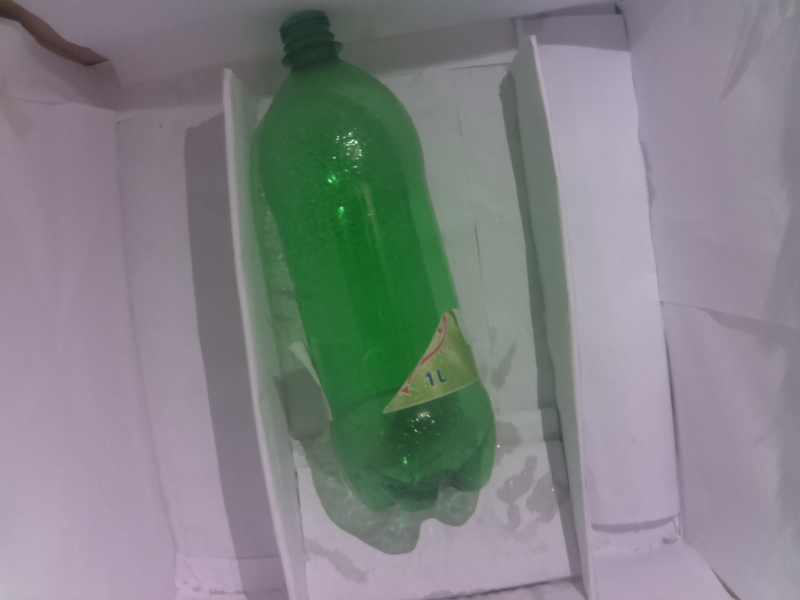botolplastik: (262, 10, 495, 508)
